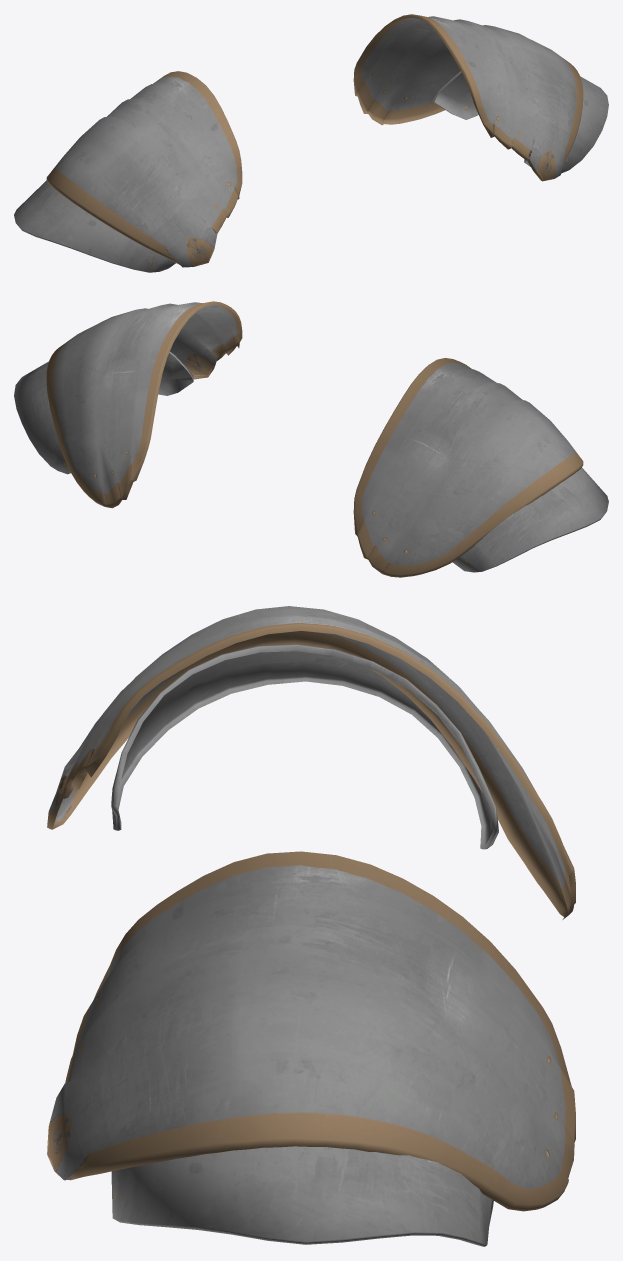
The model's file is swan_knight_pauldrons_c2.fbx.
The picture shows the model from 3 angles, top to bottom: view 1: azimuth 30°, elevation 25°; view 2: azimuth 150°, elevation 25°; view 3: azimuth 270°, elevation 25°; orthographic projection. The views are drawn at different scales.
Visible parts, largest first — view 1: swan_knight_pauldrons_c2; view 2: swan_knight_pauldrons_c2; view 3: swan_knight_pauldrons_c2.
Boxes of the visible parts, bbox=[...] form: swan_knight_pauldrons_c2: bbox=[14, 14, 608, 272]; swan_knight_pauldrons_c2: bbox=[14, 301, 608, 577]; swan_knight_pauldrons_c2: bbox=[47, 606, 575, 1246].
Size of the model in its own units: 0.6658 by 0.2633 by 0.174.
1 material, 1 textured.
